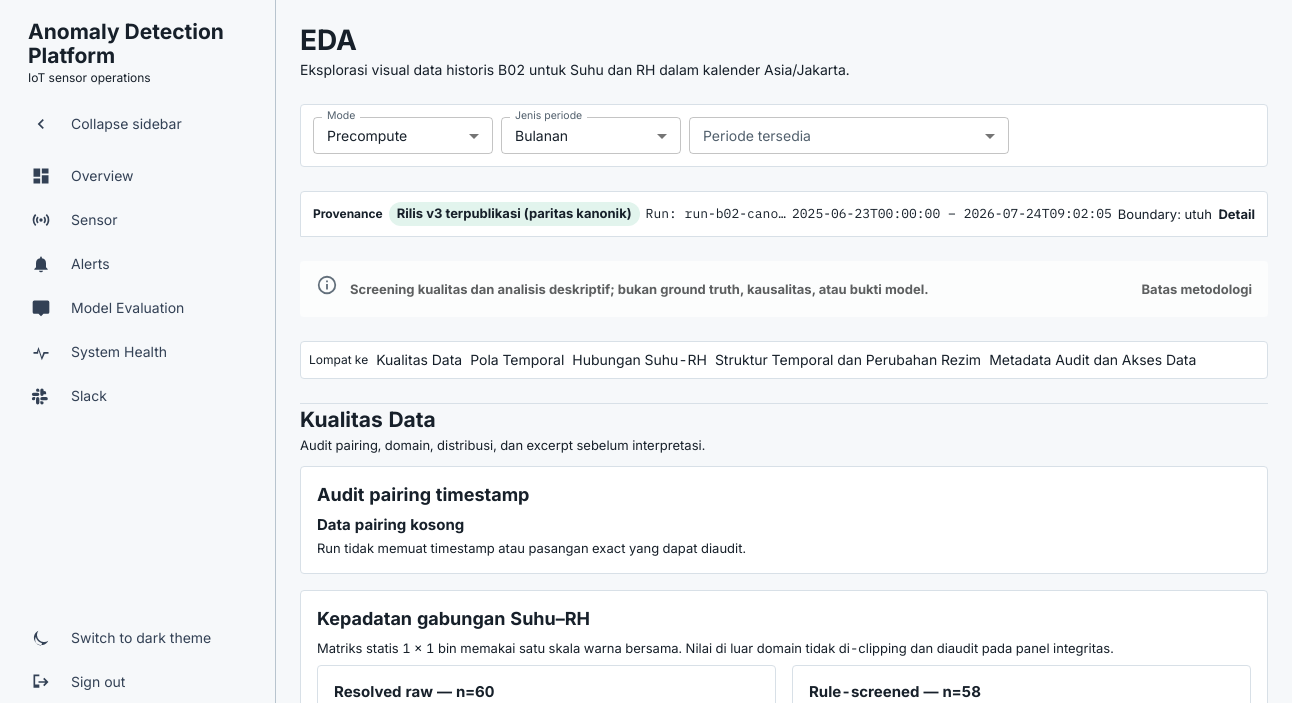
it: EdaPage › reserves the canonical parity label for a published full-range run
Click the button named "Detail" at (784, 214), box [301,192,1267,236]
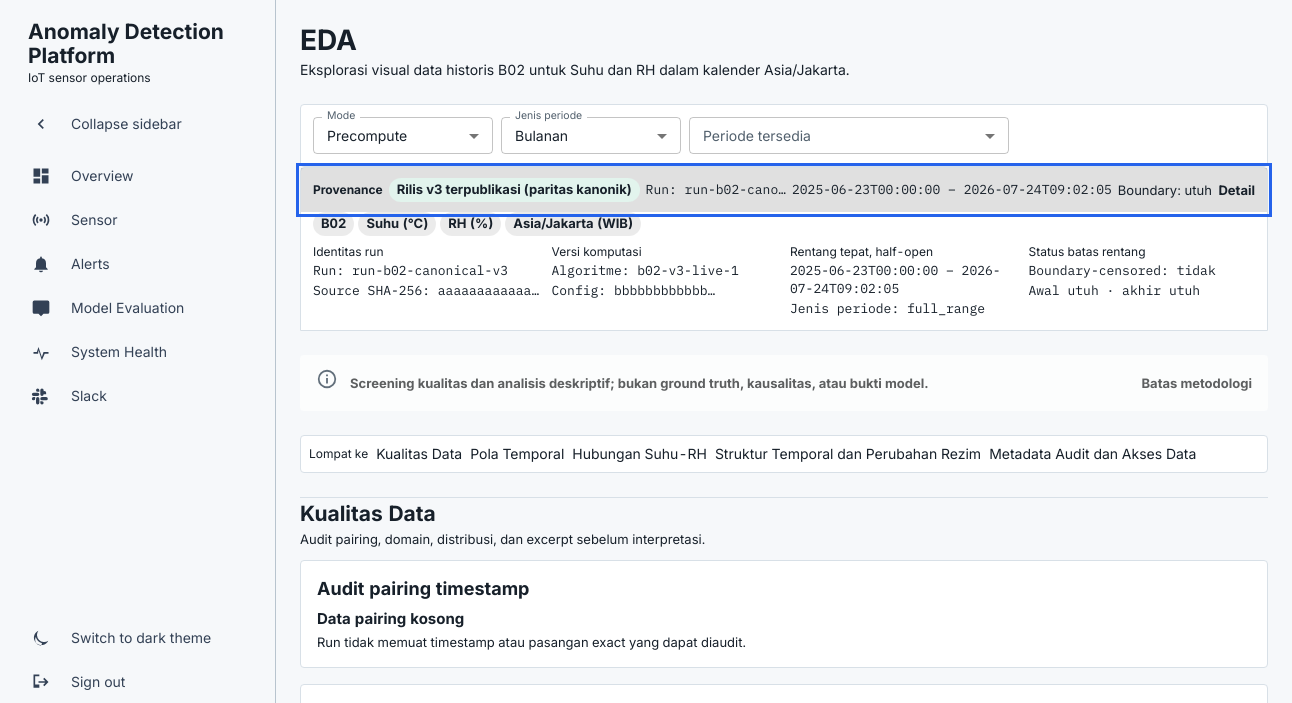
Expected: the text "Rilis v3 terpublikasi (paritas kanonik)" is shown, [389,180,640,200]
Expected: the text "Jenis periode: full_range" is shown, [790,300,1016,318]
